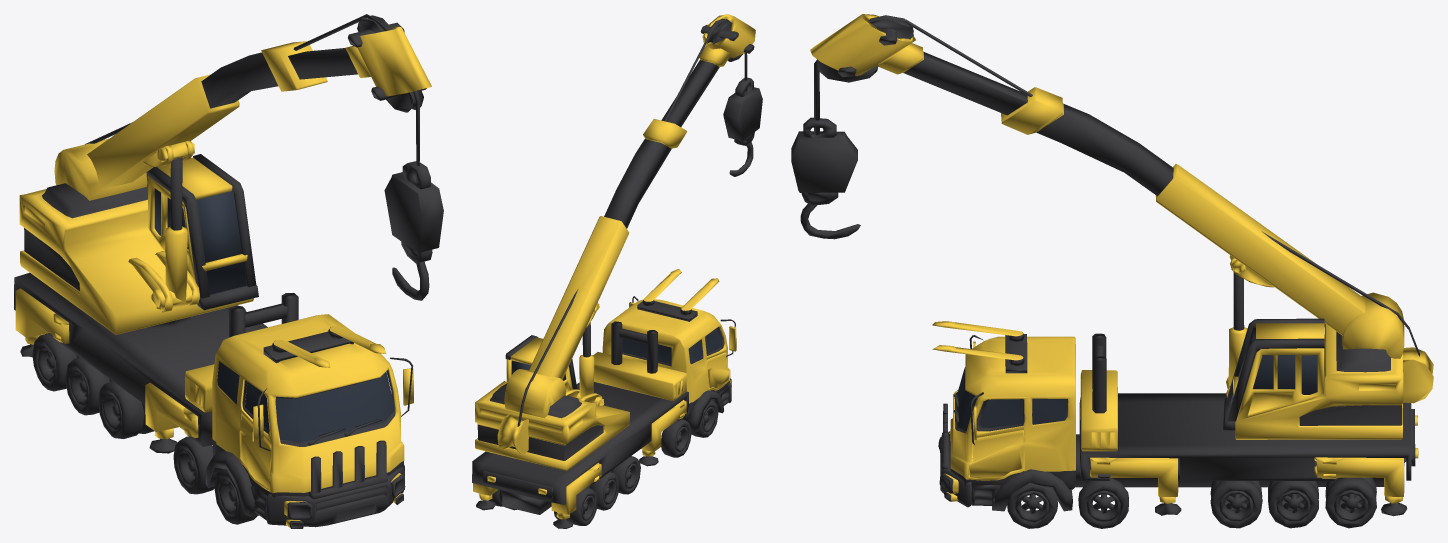
Rendered from crane.glb.
The picture shows the model from 3 angles, left to right: view 1: azimuth 30°, elevation 25°; view 2: azimuth 150°, elevation 25°; view 3: azimuth 270°, elevation 25°; orthographic projection. The views are drawn at different scales.
Visible parts, largest first — view 1: crane; view 2: crane; view 3: crane.
Part boxes in pixels (x1,y1,x2,y2): crane: (14,14,443,528); crane: (472,14,762,528); crane: (791,14,1433,528).
Size of the model in its own units: 3.78 by 12.39 by 14.99.
